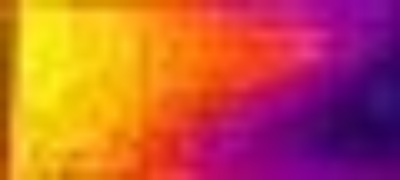Shadow: (185, 1, 400, 179)
